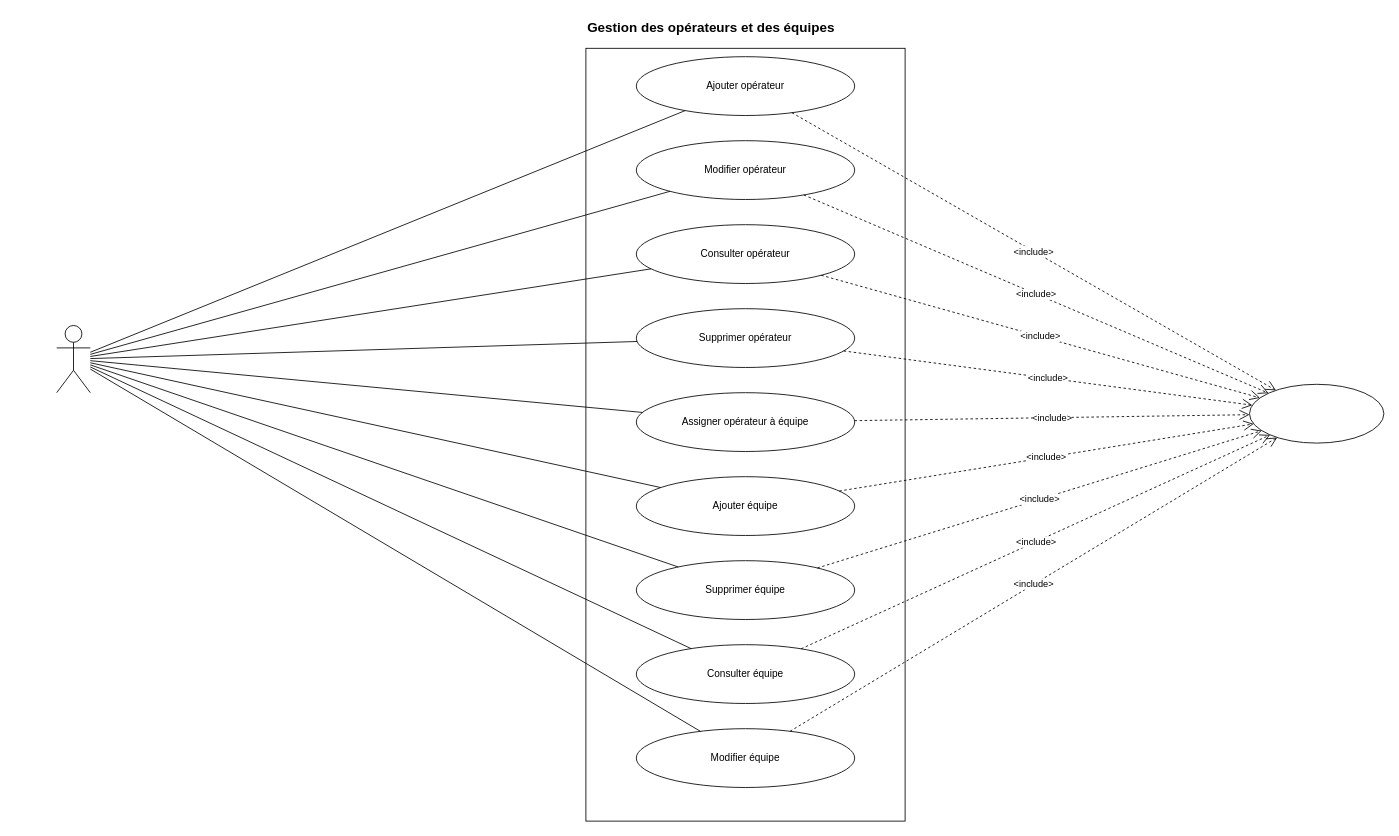
The diagram is 1399 pixels wide and 836 high, and some of its shapes have lost their labels. Here are the shapes that lost their labels. From the top down, the centre of each, then its label:
point (73, 359): Collaborateur responsable
point (1316, 413): S'authentifier
